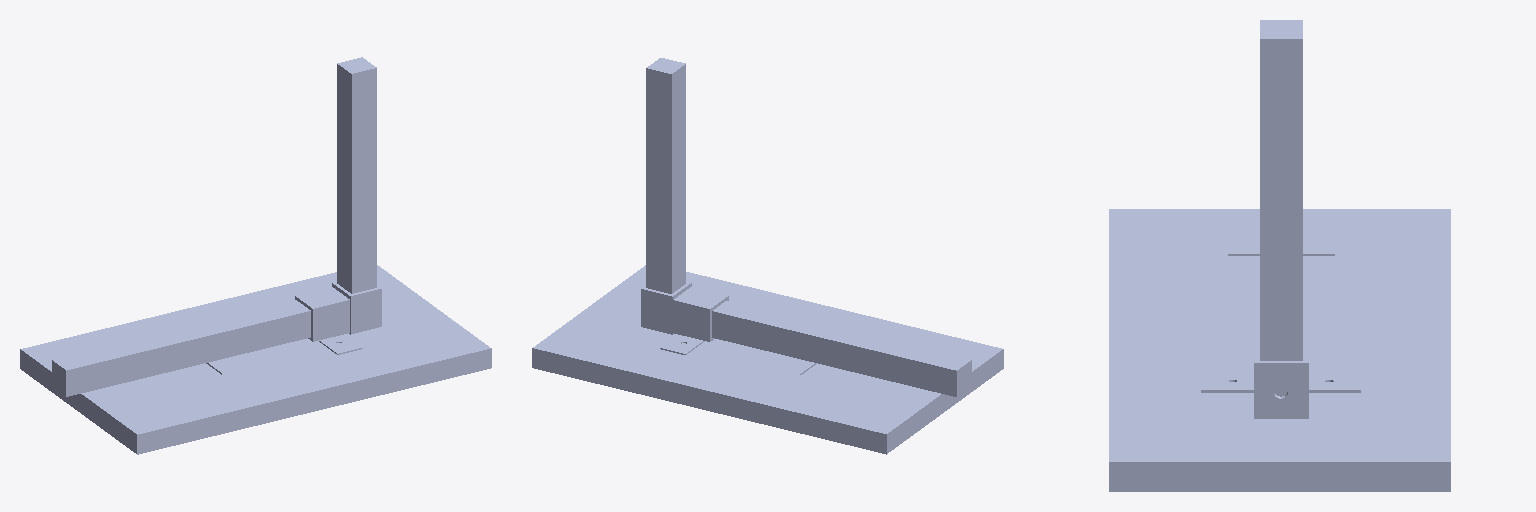
The robot description file, URDF, robot "cal_station":
<?xml version="1.0" encoding="utf-8"?>
<!-- This URDF was automatically created by SolidWorks to URDF Exporter! Originally created by [author] ([email redacted])
     Commit Version: 1.5.1-0-g916b5db  Build Version: 1.5.7152.31018
     For more information, please see http://wiki.ros.org/sw_urdf_exporter -->
<robot name="cal_station">

  <!-- LINKS BELOW-->
  <link name="Base">
    <inertial>
      <origin
        xyz="-0.06146 -0.00046784 0.0033497"
        rpy="0 0 0" />
      <mass
        value="0.75425" />
      <inertia
        ixx="0.00249"
        ixy="-3.0378E-06"
        ixz="-0.00059244"
        iyy="0.0059122"
        iyz="-3.8555E-06"
        izz="0.0063221" />
    </inertial>
    <visual>
      <origin
        xyz="0 0 0"
        rpy="0 0 0" />
      <geometry>
        <mesh
          filename="package://cal_station/meshes/Base.STL" />
      </geometry>
      <material name="">
        <color rgba="0.79216 0.81961 0.93333 1" />
      </material>
    </visual>
    <collision>
      <origin
        xyz="0 0 0"
        rpy="0 0 0" />
      <geometry>
        <mesh filename="package://cal_station/meshes/Base.STL" />
      </geometry>
    </collision>


  </link>
  <link name="Arm">
    <inertial>
      <origin
        xyz="-0.10455 -0.047134 -9.8131E-08"
        rpy="0 0 0" />
      <mass value="0.097342" />
      <inertia
        ixx="7.3209E-06"
        ixy="3.8018E-08"
        ixz="1.2028E-09"
        iyy="0.00048229"
        iyz="2.9935E-12"
        izz="0.00048222" />
    </inertial>
    <visual>
      <origin
        xyz="0.00214  0.060701 0"
        rpy="0 0 0" />
      <geometry>
        <mesh filename="package://cal_station/meshes/Arm.STL" />
      </geometry>
      <material name="">
        <color rgba="0.79216 0.81961 0.93333 1" />
      </material>
    </visual>
    <collision>
      <origin
        xyz="0 0 0"
        rpy="0 0 0" />
      <geometry>
        <mesh filename="package://cal_station/meshes/Arm.STL" />
      </geometry>
    </collision>
  </link>


  <link name="Mount">
    <inertial>
      <origin
        xyz="-1.1102E-16 -0.16473 0.052722"
        rpy="0 0 0" />
      <mass value="0.011078" />
      <inertia
        ixx="1.7417E-06"
        ixy="-5.3872E-22"
        ixz="1.6451E-22"
        iyy="3.7356E-06"
        iyz="-9.0839E-22"
        izz="3.2918E-06" />
    </inertial>
    <visual>
      <origin
        xyz="0 0.14992 -0.060701"
        rpy="0 0 0" />
      <geometry>
        <mesh filename="package://cal_station/meshes/Mount.STL" />
      </geometry>
      <material name="">
        <color rgba="0.79216 0.81961 0.93333 1" />
      </material>
    </visual>
    <collision>
      <origin
        xyz="0 0 0"
        rpy="0 0 0" />
      <geometry>
        <mesh filename="package://cal_station/meshes/Mount.STL" />
      </geometry>
    </collision>
  </link>

<!-- JOINTS BELOW -->

  <joint
    name="Arm_j"
    type="prismatic">
    <origin
      xyz="-0.00214 0 0"
      rpy="1.5708 0 0" />
    <parent
      link="Base" />
    <child
      link="Arm" />
    <axis
      xyz="0 1 0" />
    <limit
      lower="0"
      upper="0.1818"
      effort="1000"
      velocity="0" />
  </joint>

  <joint
    name="Mount_j"
    type="prismatic">
    <origin
      xyz="0 0 0"
      rpy="1.5708 1.5708 0" />
    <parent
      link="Arm" />
    <child
      link="Mount" />
    <axis
      xyz="0 -1 0" />
    <limit
      lower="0"
      upper="0.170"
      effort="1000"
      velocity="0" />
  </joint>
</robot>

--- Facts derived from the render (not from the file) ---
The picture shows the robot from 3 angles, left to right: view 1: azimuth 30°, elevation 25°; view 2: azimuth 150°, elevation 25°; view 3: azimuth 270°, elevation 25°; orthographic projection.
Robot: cal_station — 3 links, 2 joints (2 prismatic); root link Base; default pose: all joints at 0.
Visible links, largest first — view 1: Base, Arm, Mount; view 2: Base, Arm, Mount; view 3: Base, Arm, Mount.
Link boxes in pixels (box(x1,y1,x2,y2)): Base: box(20, 57, 491, 454); Arm: box(52, 281, 381, 396); Mount: box(295, 287, 362, 354); Base: box(532, 58, 1003, 454); Arm: box(641, 282, 971, 396); Mount: box(660, 287, 728, 354); Base: box(1109, 20, 1450, 491); Arm: box(1254, 341, 1308, 418); Mount: box(1201, 319, 1360, 392).
Size in the robot's own frame: 0.2954 by 0.16 by 0.2102 metres.
3 mesh visuals loaded from 3 distinct referenced files (3 binary STL).
